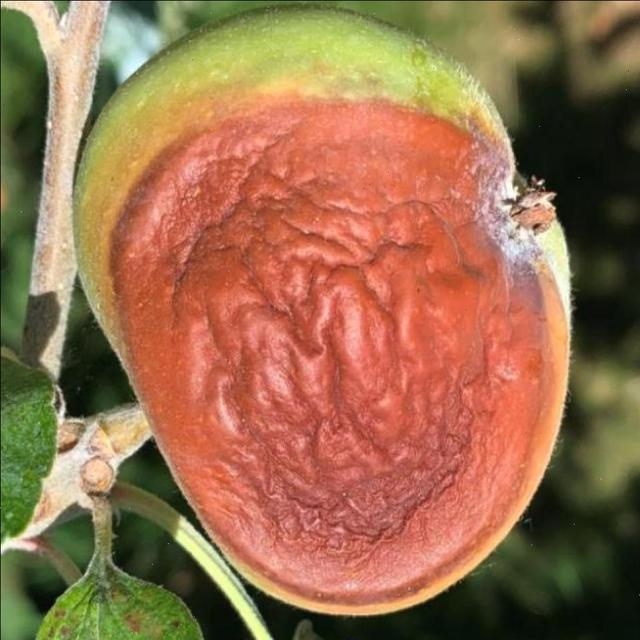Blossom End Rot Fruit: (67, 64, 365, 405)
